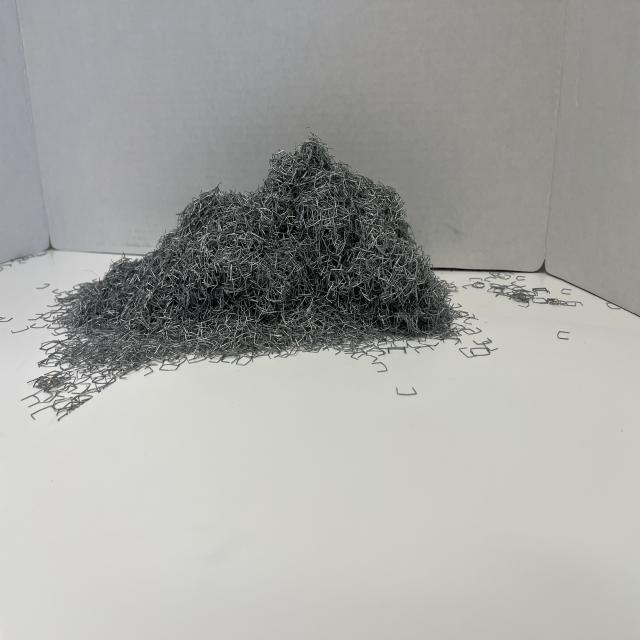staples: (21, 129, 460, 424)
